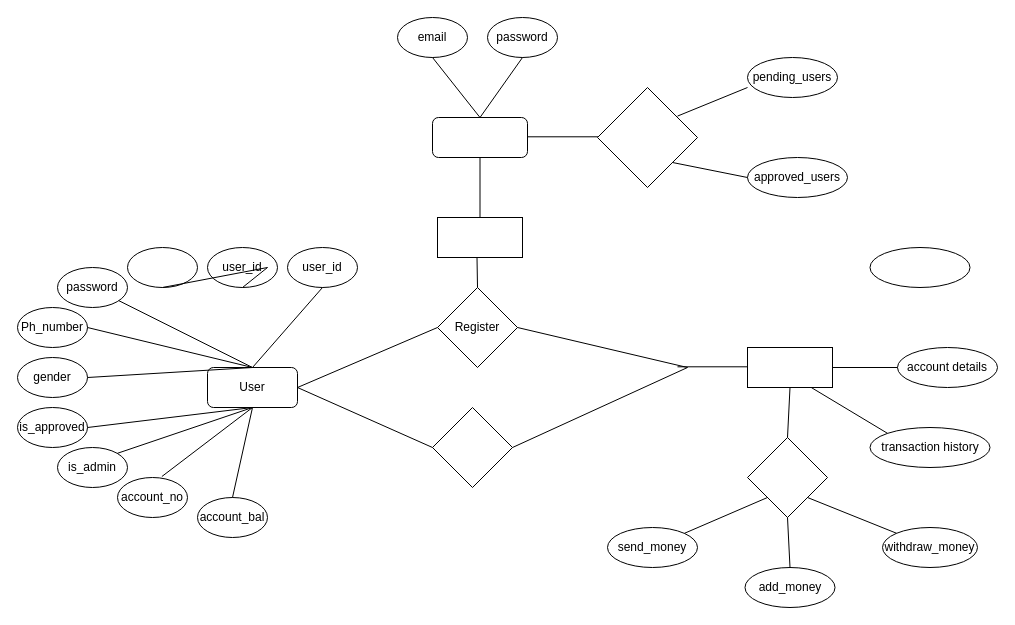
This 1015x625 diagram has some shape labels left out. The centre of each missing label's shape, as x and y in pixels:
Account: [789,367]
Admin: [480,137]
Login: [472,447]
Managed By: [479,237]
payments: [787,477]
update_account: [919,267]
user management: [647,137]
user_email: [162,267]
